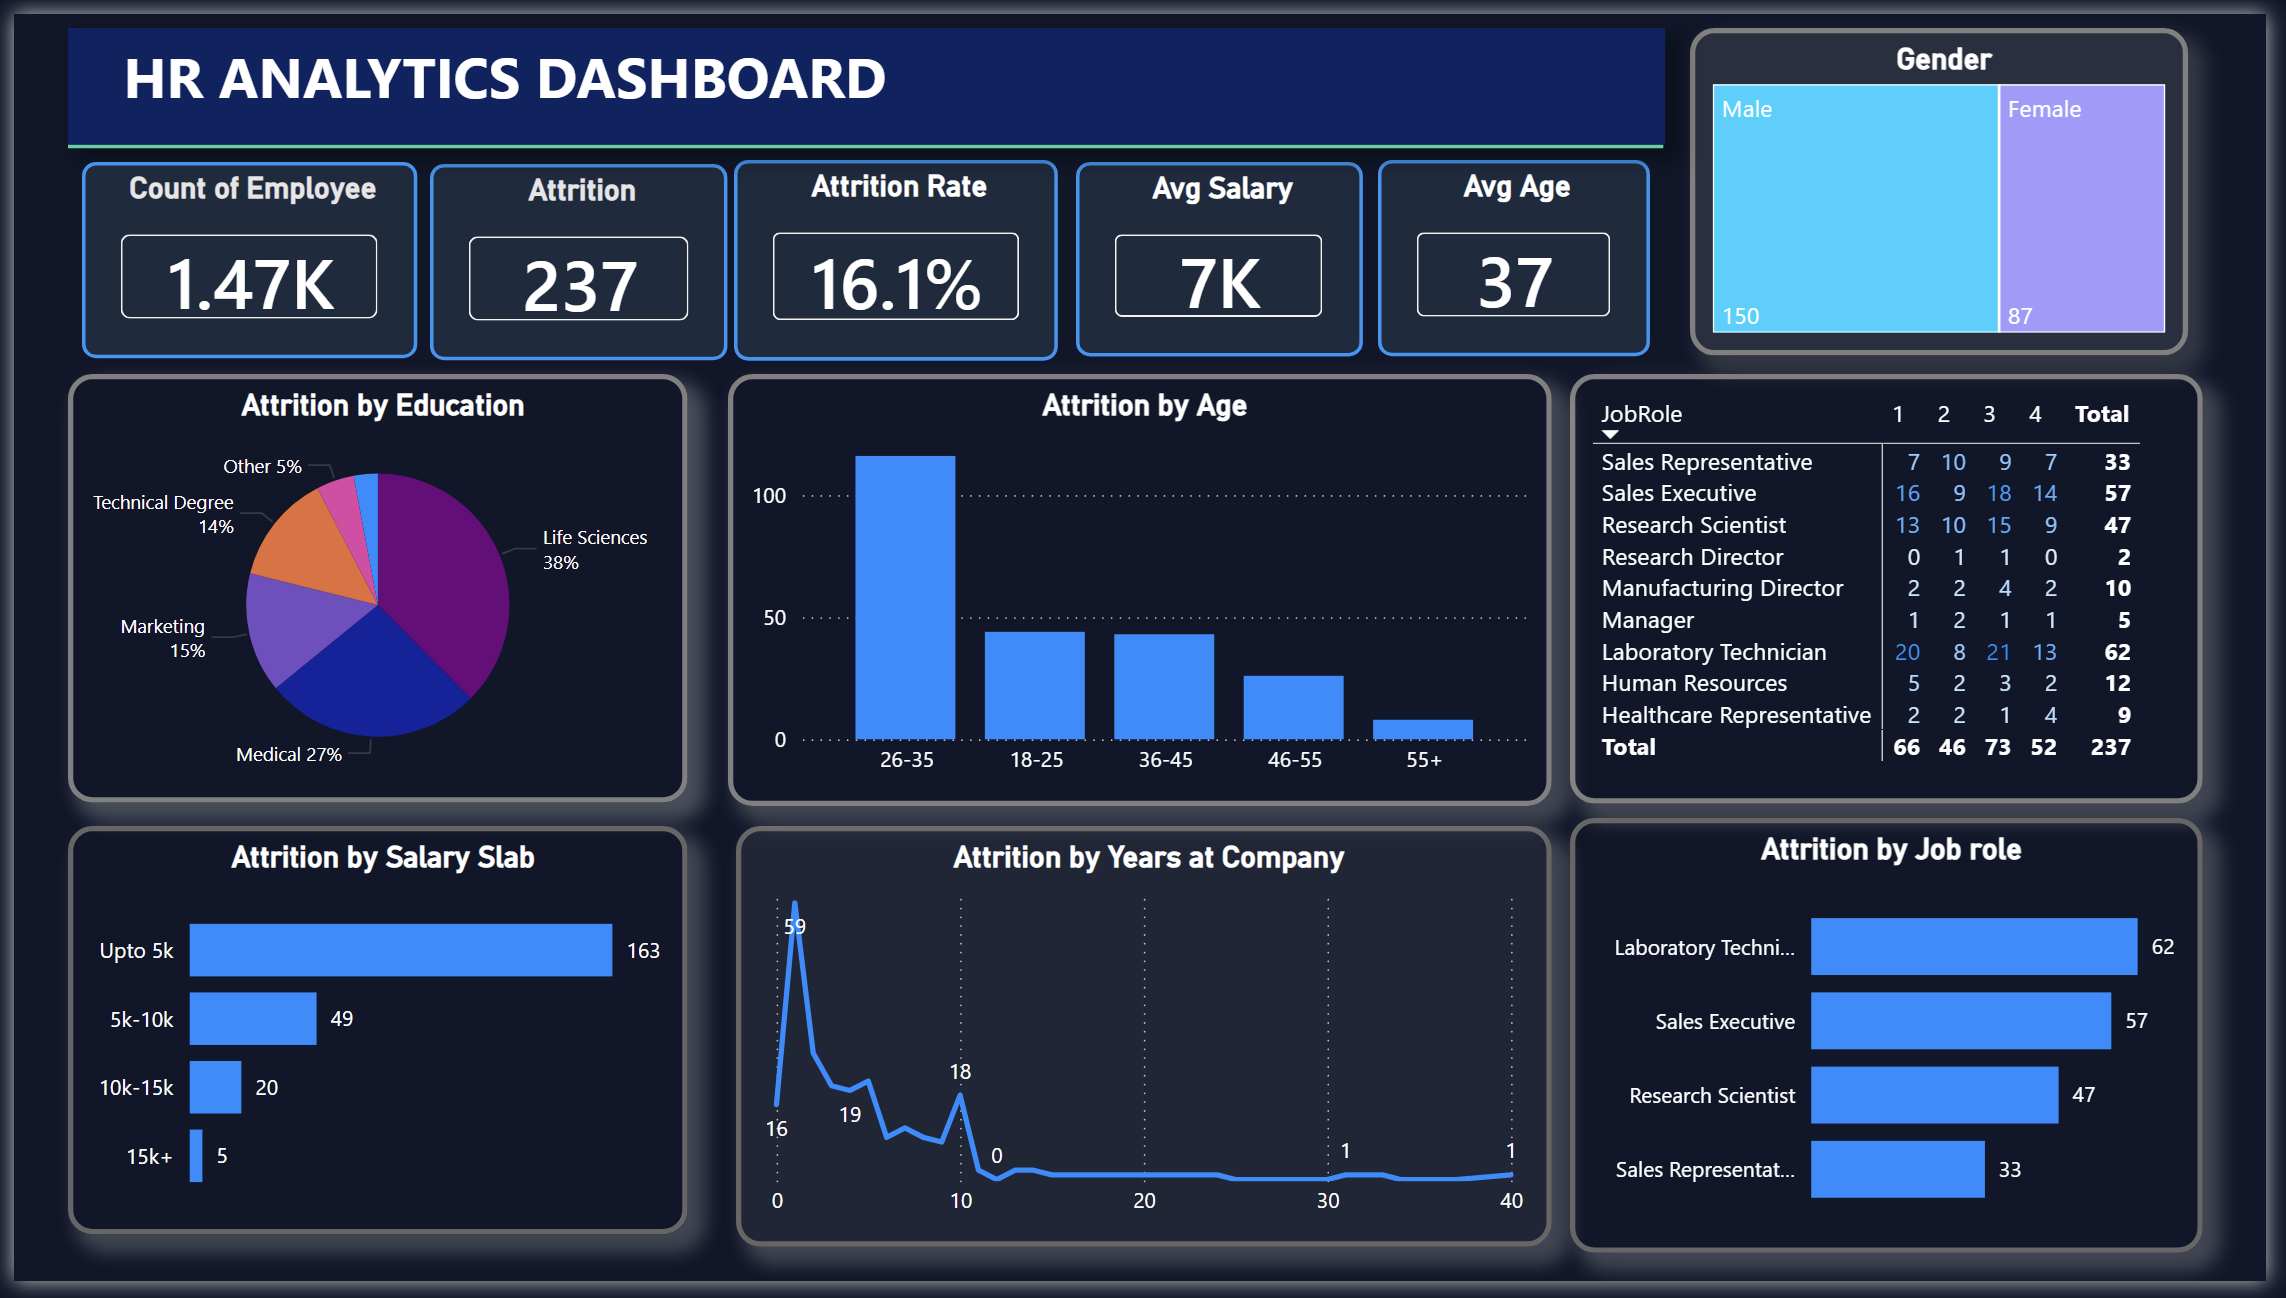

Layout of this report page (visuals, bound fields, positions):
{"tool":"powerbi","page":{"name":"Page 1","canvas":[1280,720],"ordinal":0},"visuals":[{"type":"cardVisual","title":"Attrition","fields":{"Data":["Sum(HR_Analytics.AttritionCount)"]},"box":[236.2,85.1,169.1,111.7],"z":0},{"type":"cardVisual","title":"Attrition  Rate","fields":{"Data":["HR_Analytics.AttritionRate"]},"box":[409.6,83,184,113.8],"z":1000},{"type":"cardVisual","title":"Avg Age","fields":{"Data":["Avg(HR_Analytics.Age)"]},"box":[774.5,83,154.3,111.7],"z":2000},{"type":"cardVisual","title":"Avg Salary","fields":{"Data":["Avg(HR_Analytics.MonthlyIncome)"]},"box":[603.2,84,162.8,110.6],"z":3000},{"type":"pieChart","title":"Attrition by Education","fields":{"Category":["HR_Analytics.EducationField"],"Y":["Sum(HR_Analytics.AttritionCount)"]},"box":[30.9,204.3,352.1,243.6],"z":5000},{"type":"lineChart","title":"Attrition by Years at Company","fields":{"Category":["HR_Analytics.YearsAtCompany"],"Y":["Sum(HR_Analytics.AttritionCount)"]},"box":[410,461.1,463.3,238.9],"z":6000},{"type":"pivotTable","fields":{"Rows":["HR_Analytics.JobRole"],"Columns":["HR_Analytics.JobSatisfaction"],"Values":["Sum(HR_Analytics.AttritionCount)"]},"box":[884.4,204.7,359.5,243.9],"z":7000},{"type":"barChart","title":"Attrition by Salary Slab","fields":{"Category":["HR_Analytics.SalarySlab"],"Y":["Sum(HR_Analytics.AttritionCount)"]},"box":[31.1,461.1,352.2,232.2],"z":8000},{"type":"barChart","title":"Attrition by Job role","fields":{"Y":["Sum(HR_Analytics.AttritionCount)"],"Category":["HR_Analytics.JobRole"]},"box":[884.4,457,359.5,247.1],"z":9000},{"type":"treemap","title":"Gender","fields":{"Group":["HR_Analytics.Gender"],"Values":["Sum(HR_Analytics.AttritionCount)"]},"box":[952.1,8.5,283,186.2],"z":10000},{"type":"columnChart","title":"Attrition by Age","fields":{"Category":["HR_Analytics.AgeGroup"],"Y":["Sum(HR_Analytics.AttritionCount)"]},"box":[405.6,204.4,467.8,245.6],"z":11000},{"type":"textbox","box":[30.9,8.5,907.4,66],"z":14001},{"type":"shape","box":[31.1,64.4,906.7,21.1],"z":14002},{"type":"cardVisual","title":"Count of Employee","fields":{"Data":["CountNonNull(HR_Analytics.EmpID)"]},"box":[38.3,84,190.4,111.7],"z":14003}]}

Visuals, with their boxes in screenshot pixels (x1, y1, x2, y2), scaled from the page's 1280x720 canvas onto the 2286x1298 screenshot:
"Attrition" cardVisual: rect(422, 153, 724, 355)
"Attrition  Rate" cardVisual: rect(732, 150, 1060, 355)
"Avg Age" cardVisual: rect(1383, 150, 1659, 351)
"Avg Salary" cardVisual: rect(1077, 151, 1368, 351)
"Attrition by Education" pieChart: rect(55, 368, 684, 807)
"Attrition by Years at Company" lineChart: rect(732, 831, 1560, 1262)
pivotTable - HR_Analytics.JobRole x HR_Analytics.JobSatisfaction: rect(1579, 369, 2222, 809)
"Attrition by Salary Slab" barChart: rect(56, 831, 685, 1250)
"Attrition by Job role" barChart: rect(1579, 824, 2222, 1269)
"Gender" treemap: rect(1700, 15, 2206, 351)
"Attrition by Age" columnChart: rect(724, 368, 1560, 811)
textbox: rect(55, 15, 1676, 134)
shape: rect(56, 116, 1675, 154)
"Count of Employee" cardVisual: rect(68, 151, 408, 353)
